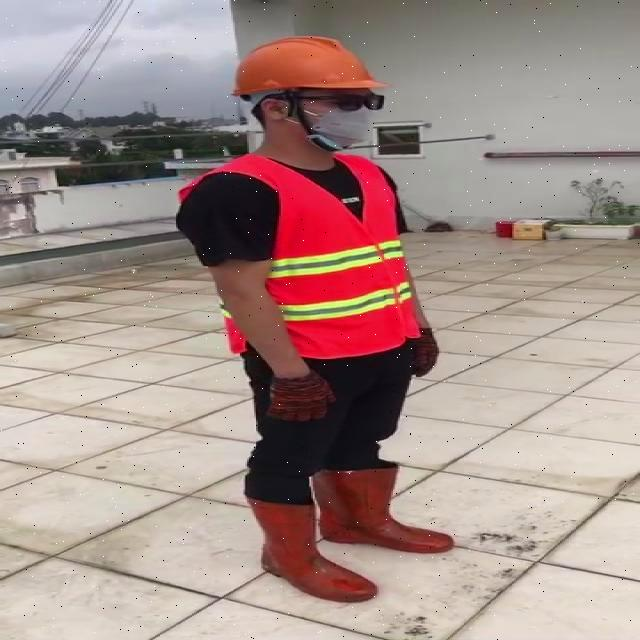Hard_hat: (231, 33, 394, 111)
Person: (181, 26, 453, 634)
Vest: (260, 150, 414, 362)
